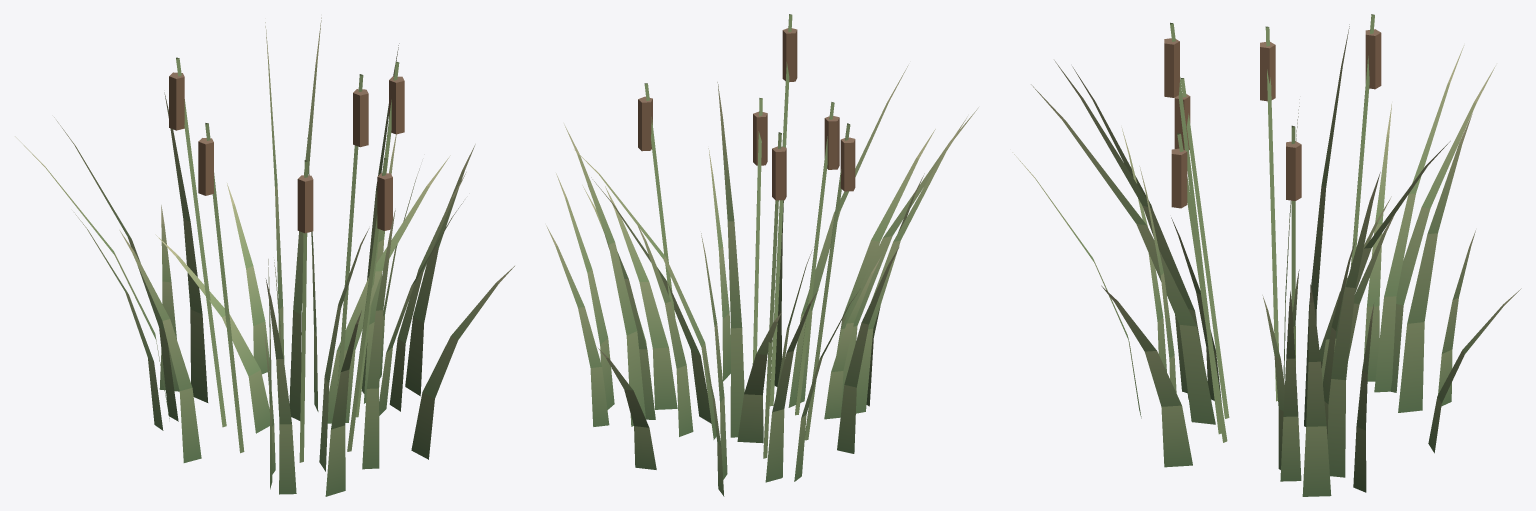
The model's file is juncos.glb.
The picture shows the model from 3 angles, left to right: view 1: azimuth 30°, elevation 25°; view 2: azimuth 150°, elevation 25°; view 3: azimuth 270°, elevation 25°; orthographic projection. The views are drawn at different scales.
Visible parts, largest first — view 1: juncos; view 2: juncos; view 3: juncos.
Part boxes in pixels (x1,y1,x2,y2): juncos: [15, 17, 514, 496]; juncos: [546, 14, 978, 496]; juncos: [1012, 14, 1521, 496].
Bounding box in the file's own units: 1.81 × 1.85 × 2.09.
